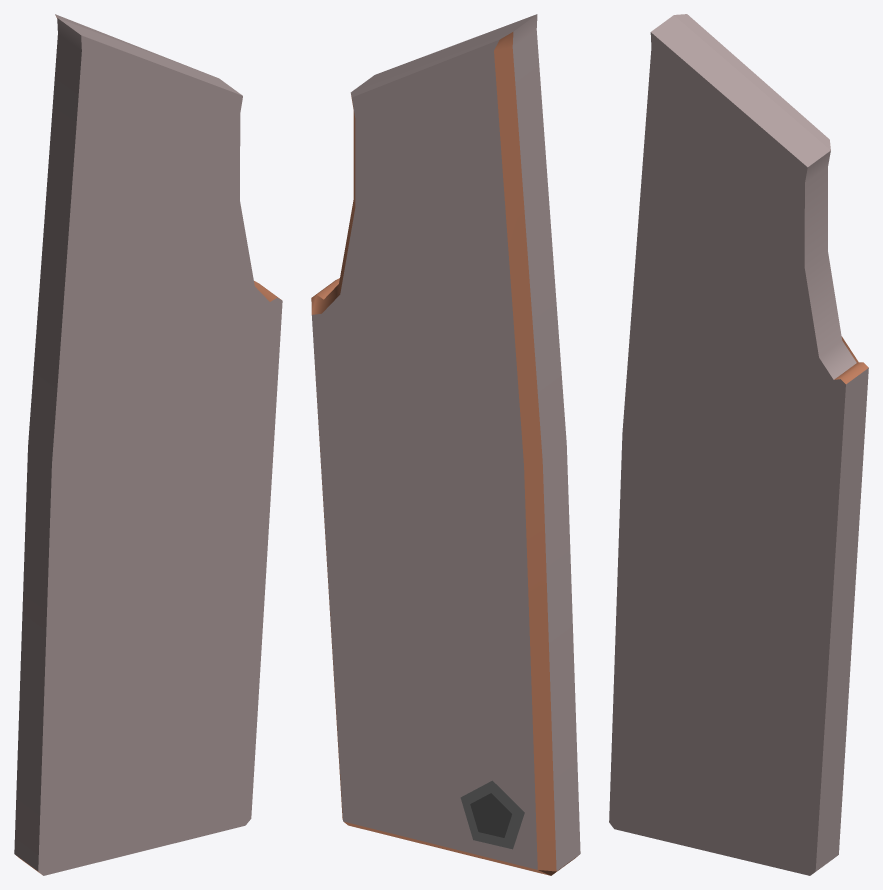
Rendered from WoodBoardF.fbx.
3 renders of one model, left to right at view 1: azimuth 30°, elevation 25°; view 2: azimuth 150°, elevation 25°; view 3: azimuth 330°, elevation 25°, orthographic. The views are drawn at different scales.
Parts seen in each view (by area): view 1: WoodBoardF; view 2: WoodBoardF; view 3: WoodBoardF.
Part boxes in pixels (left/top/right/bottom): WoodBoardF: left=14, top=14, right=282, bottom=875; WoodBoardF: left=311, top=14, right=580, bottom=875; WoodBoardF: left=609, top=14, right=868, bottom=875.
Bounding box in the file's own units: 63.99 × 208 × 15.13.
